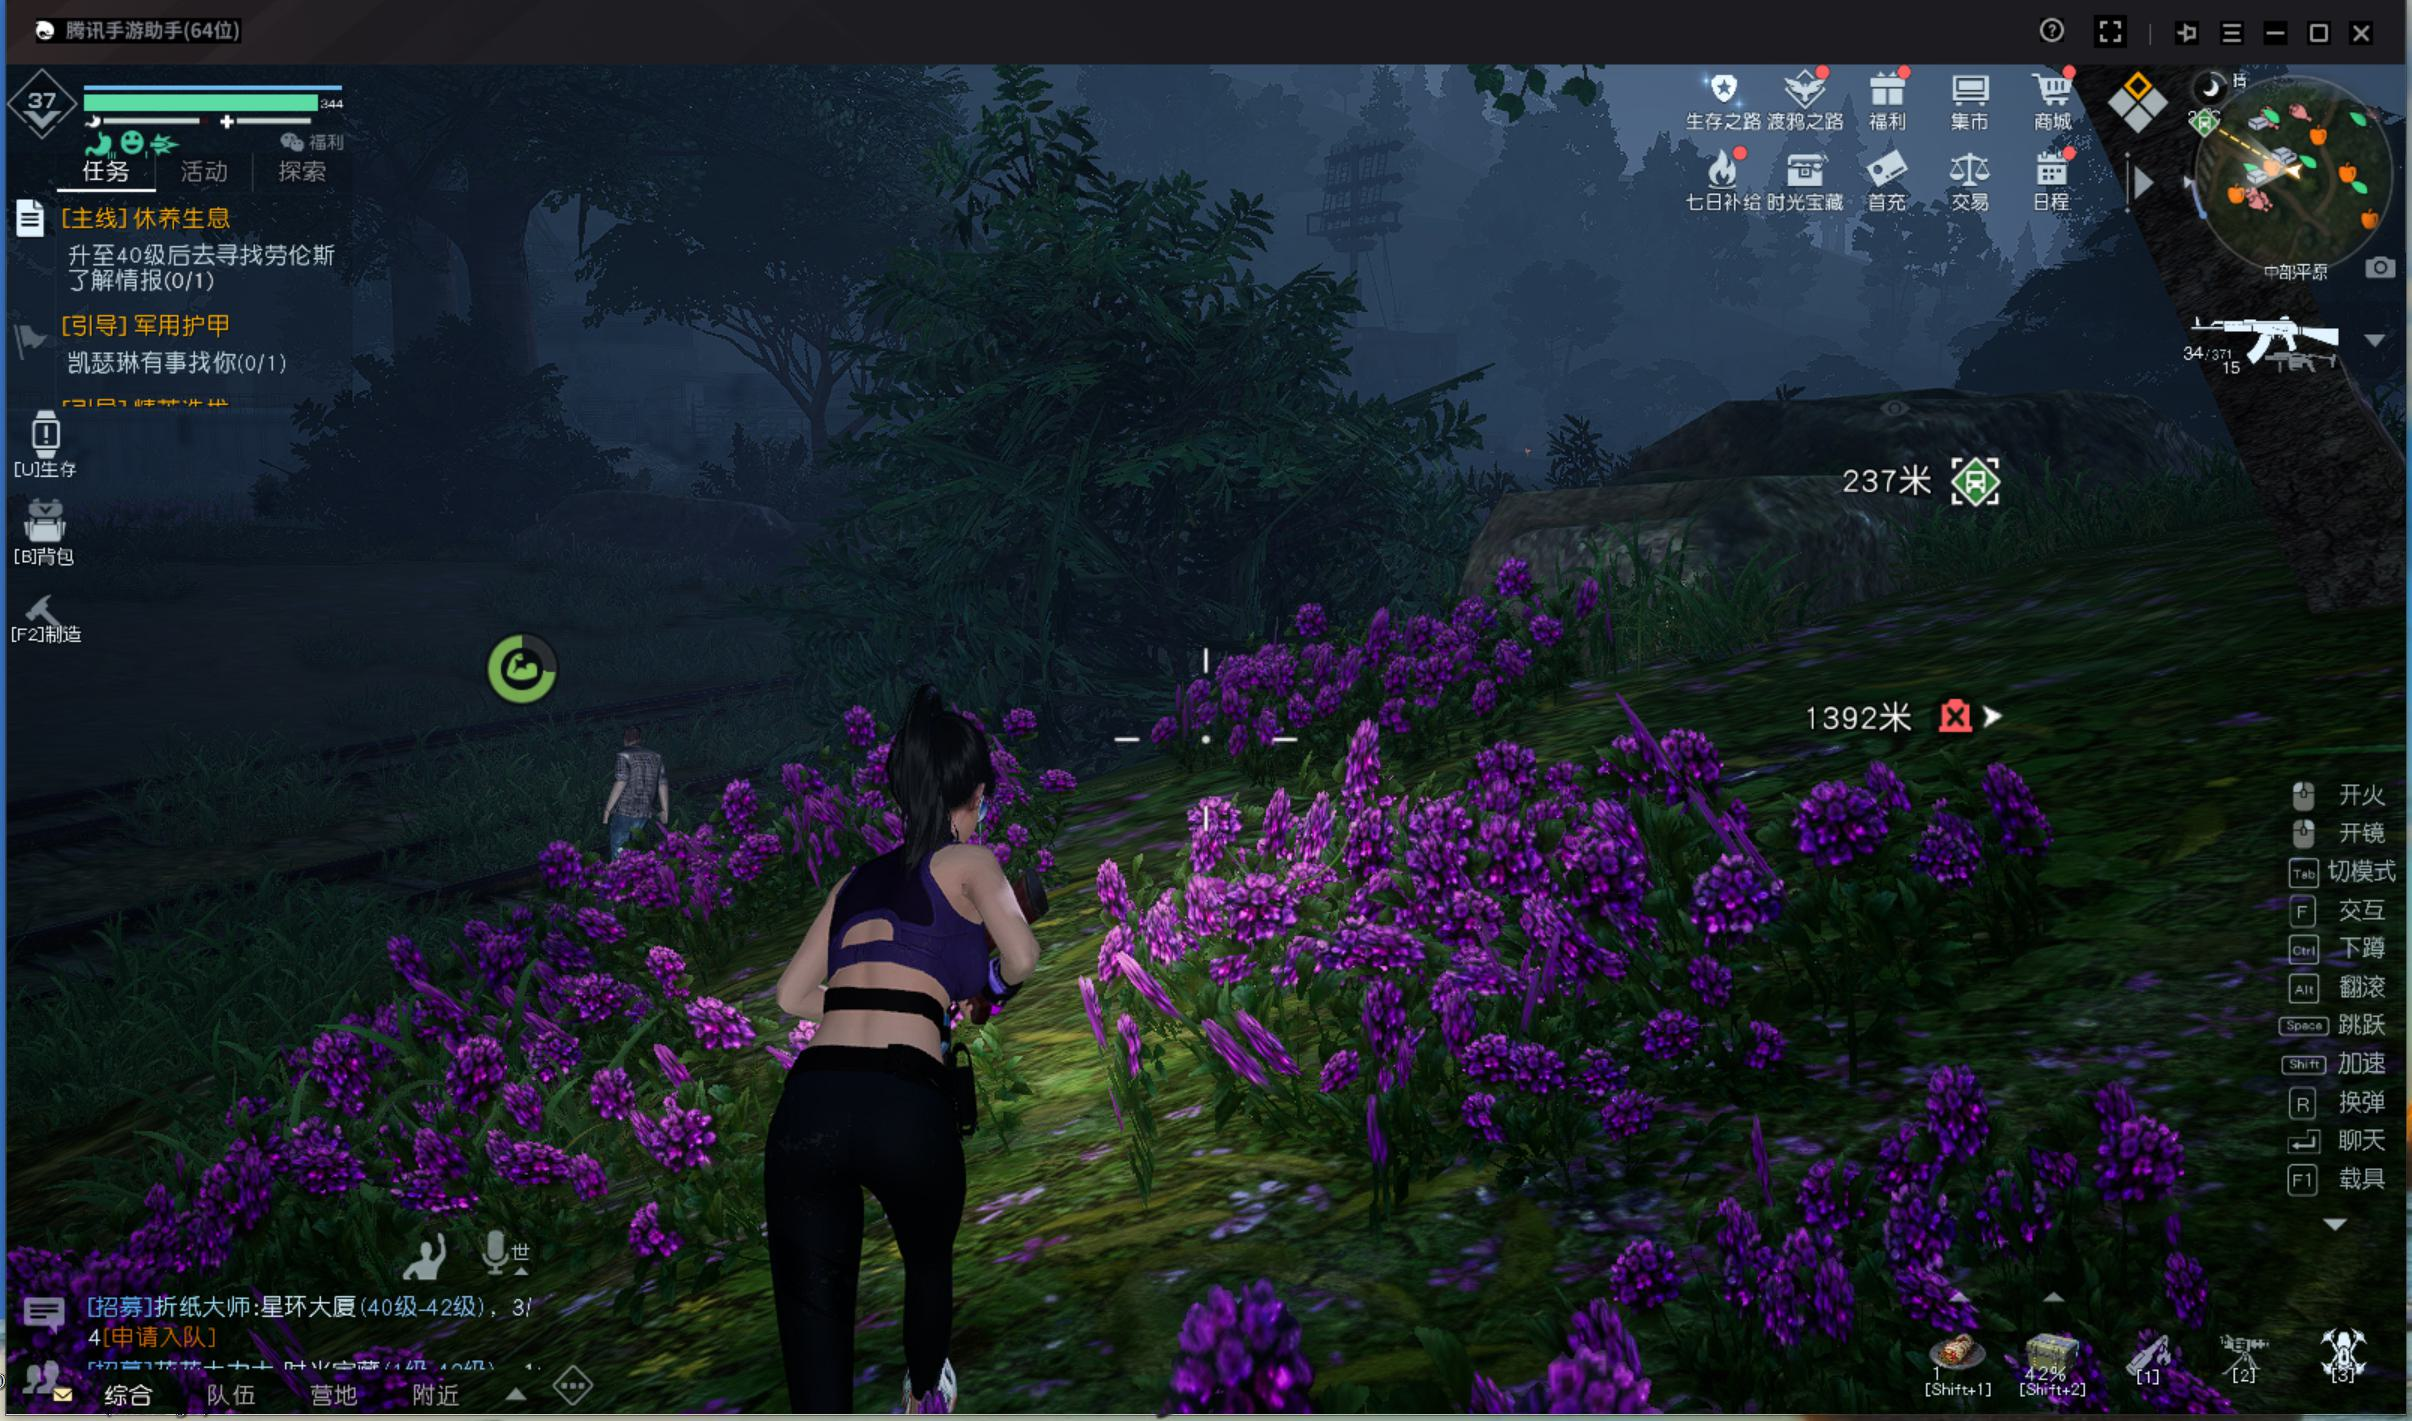tree: (462, 254, 565, 491), (382, 254, 455, 492)
